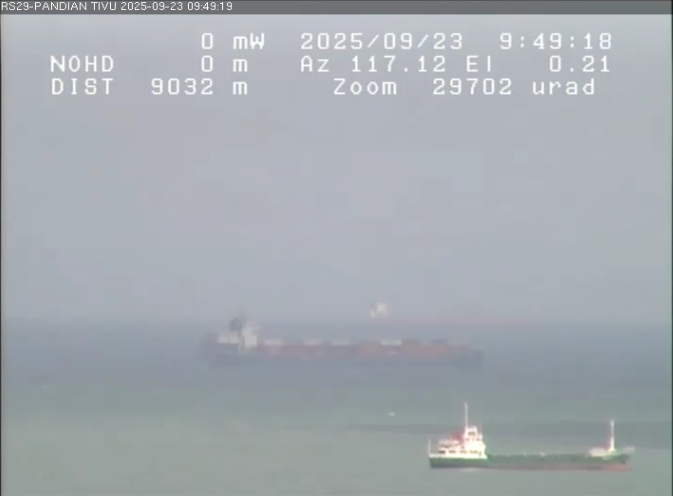CARGO_SHIPS: (185, 304, 493, 376), (416, 399, 653, 481)
